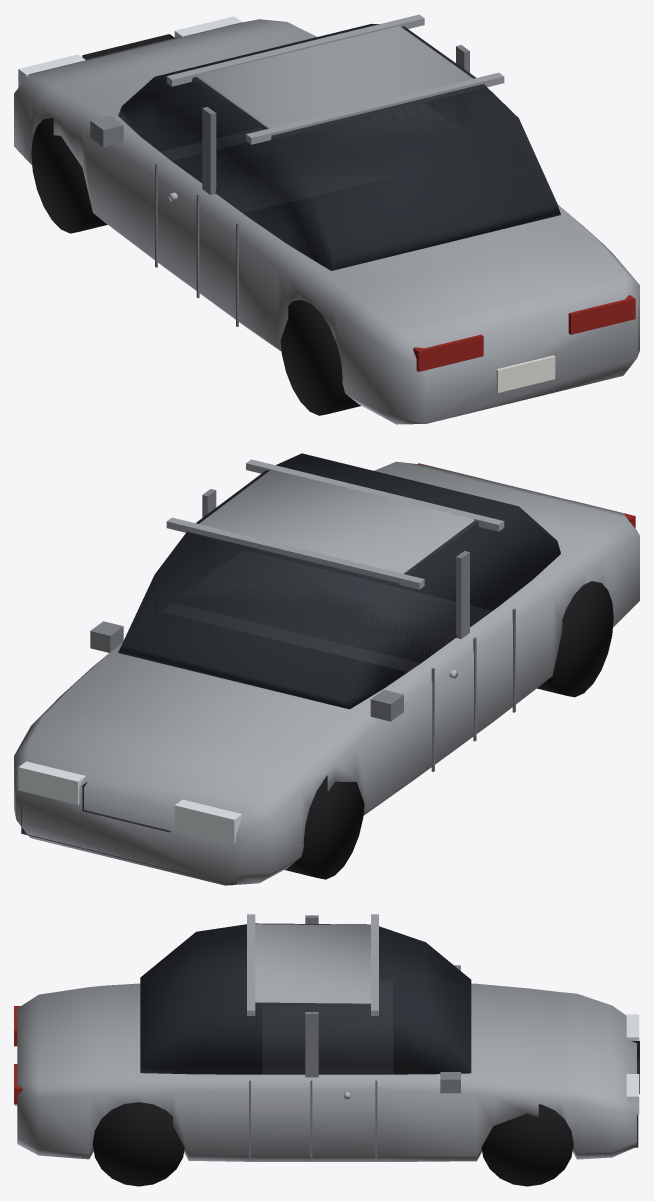
File: garage_car.glb
The picture shows the model from 3 angles, top to bottom: view 1: azimuth 30°, elevation 25°; view 2: azimuth 150°, elevation 25°; view 3: azimuth 270°, elevation 25°; orthographic projection. The views are drawn at different scales.
Visible parts, largest first — view 1: root; view 2: root; view 3: root.
Part boxes in pixels (box(x1,y1,x2,y2)): root: box(14, 14, 639, 424); root: box(14, 453, 639, 885); root: box(14, 914, 639, 1186).
Size of the model in its own units: 1.99 by 1.4 by 4.61.
